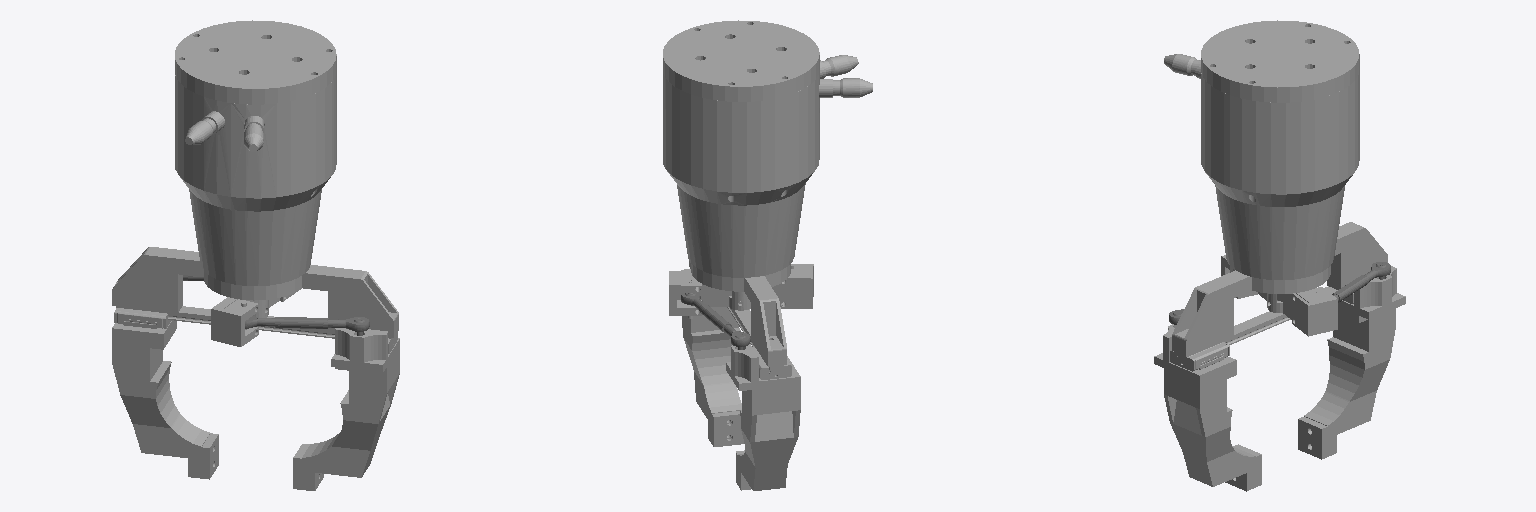
The robot description file, URDF, robot "paeallel gripper":
<?xml version="1.0" encoding="utf-8"?>
<!-- This URDF was automatically created by SolidWorks to URDF Exporter! Originally created by Stephen Brawner (brawner@gmail.com) 
     Commit Version: 1.6.0-4-g7f85cfe  Build Version: 1.6.7995.38578
     For more information, please see http://wiki.ros.org/sw_urdf_exporter -->
<robot
  name="paeallel gripper">
  <link
    name="base_link">
    <inertial>
      <origin
        xyz="-0.000443252122602931 -0.000442763662401773 -0.0789823429237976"
        rpy="0 0 0" />
      <mass
        value="0.449990387701698" />
      <inertia
        ixx="0.000611599768651393"
        ixy="0.000109863285594623"
        ixz="-1.94162169945949E-06"
        iyy="0.000611597595039472"
        iyz="-1.94141723807738E-06"
        izz="0.000708132649475118" />
    </inertial>
    <visual>
      <origin
        xyz="0 0 0"
        rpy="0 0 0" />
      <geometry>
        <mesh
          filename="package://paeallel gripper/meshes/base_link.STL" />
      </geometry>
      <material
        name="">
        <color
          rgba="0.698039215686274 0.698039215686274 0.698039215686274 1" />
      </material>
    </visual>
    <collision>
      <origin
        xyz="0 0 0"
        rpy="0 0 0" />
      <geometry>
        <mesh
          filename="package://paeallel gripper/meshes/base_link.STL" />
      </geometry>
    </collision>
  </link>
  <link
    name="motor">
    <inertial>
      <origin
        xyz="9.22590686407531E-05 -0.0001677011502331 -0.0090821453339556"
        rpy="0 0 0" />
      <mass
        value="0.128244907778305" />
      <inertia
        ixx="1.4145663490098E-05"
        ixy="-1.07192889077197E-05"
        ixz="3.80937341211656E-10"
        iyy="2.75049357553638E-05"
        iyz="-6.92422845600556E-10"
        izz="3.19913265885044E-05" />
    </inertial>
    <visual>
      <origin
        xyz="0 0 0"
        rpy="0 0 0" />
      <geometry>
        <mesh
          filename="package://paeallel gripper/meshes/motor.STL" />
      </geometry>
      <material
        name="">
        <color
          rgba="0.698039215686274 0.698039215686274 0.698039215686274 1" />
      </material>
    </visual>
    <collision>
      <origin
        xyz="0 0 0"
        rpy="0 0 0" />
      <geometry>
        <mesh
          filename="package://paeallel gripper/meshes/motor.STL" />
      </geometry>
    </collision>
  </link>
  <joint
    name="motor"
    type="revolute">
    <origin
      xyz="0 0 -0.146000000000002"
      rpy="0 0 0" />
    <parent
      link="base_link" />
    <child
      link="motor" />
    <axis
      xyz="0 0 -1" />
    <limit
      lower="0"
      upper="0.9601618283"
      effort="0"
      velocity="0" />
  </joint>
  <link
    name="link1">
    <inertial>
      <origin
        xyz="-0.0298586239548906 0.0197261040508656 -0.0036142199354076"
        rpy="0 0 0" />
      <mass
        value="0.00248577770480401" />
      <inertia
        ixx="5.61968001929898E-08"
        ixy="4.67872105961216E-08"
        ixz="9.55423899712618E-16"
        iyy="9.61069133377032E-08"
        iyz="-6.13446905808832E-16"
        izz="1.26527926465619E-07" />
    </inertial>
    <visual>
      <origin
        xyz="0 0 0"
        rpy="0 0 0" />
      <geometry>
        <mesh
          filename="package://paeallel gripper/meshes/link1.STL" />
      </geometry>
      <material
        name="">
        <color
          rgba="0.501960784313725 0.501960784313725 0.501960784313725 1" />
      </material>
    </visual>
    <collision>
      <origin
        xyz="0 0 0"
        rpy="0 0 0" />
      <geometry>
        <mesh
          filename="package://paeallel gripper/meshes/link1.STL" />
      </geometry>
    </collision>
  </link>
  <joint
    name="link1"
    type="revolute">
    <origin
      xyz="0.021614 0.022952 -0.0075"
      rpy="0 0 0" />
    <parent
      link="motor" />
    <child
      link="link1" />
    <axis
      xyz="0 0 -1" />
    <limit
      lower="-3.14"
      upper="3.14"
      effort="0"
      velocity="0" />
    <mimic
      joint="motor"
      multiplier="-0.88"
      offset="0" />
  </joint>
  <link
    name="link2">
    <inertial>
      <origin
        xyz="0.0299689669230293 -0.0195580578819348 -0.00361422009657247"
        rpy="0 0 0" />
      <mass
        value="0.00248577769066908" />
      <inertia
        ixx="5.5672399023117E-08"
        ixy="4.65600605113971E-08"
        ixz="1.29551524737056E-20"
        iyy="9.66313146049496E-08"
        iyz="-6.81212621467356E-21"
        izz="1.26527926643365E-07" />
    </inertial>
    <visual>
      <origin
        xyz="0 0 0"
        rpy="0 0 0" />
      <geometry>
        <mesh
          filename="package://paeallel gripper/meshes/link2.STL" />
      </geometry>
      <material
        name="">
        <color
          rgba="0.501960784313725 0.501960784313725 0.501960784313725 1" />
      </material>
    </visual>
    <collision>
      <origin
        xyz="0 0 0"
        rpy="0 0 0" />
      <geometry>
        <mesh
          filename="package://paeallel gripper/meshes/link2.STL" />
      </geometry>
    </collision>
  </link>
  <joint
    name="link2"
    type="revolute">
    <origin
      xyz="-0.021316 -0.023492 -0.007"
      rpy="0 0 0" />
    <parent
      link="motor" />
    <child
      link="link2" />
    <axis
      xyz="0 0 -1" />
    <limit
      lower="-3.14"
      upper="3.14"
      effort="0"
      velocity="0" />
    <mimic
      joint="motor"
      multiplier="-0.88"
      offset="0" />
  </joint>
  <link
    name="p1">
    <inertial>
      <origin
        xyz="-0.0251576655127445 0.0270743349939394 0.0471197404654572"
        rpy="0 0 0" />
      <mass
        value="0.0639216206656708" />
      <inertia
        ixx="3.46401729832417E-05"
        ixy="1.73539659004351E-06"
        ixz="6.38448685760896E-06"
        iyy="3.46401741707637E-05"
        iyz="-6.74759673488215E-06"
        izz="1.17759934604075E-05" />
    </inertial>
    <visual>
      <origin
        xyz="0 0 0"
        rpy="0 0 0" />
      <geometry>
        <mesh
          filename="package://paeallel gripper/meshes/p1.STL" />
      </geometry>
      <material
        name="">
        <color
          rgba="0.698039215686274 0.698039215686274 0.698039215686274 1" />
      </material>
    </visual>
    <collision>
      <origin
        xyz="0 0 0"
        rpy="0 0 0" />
      <geometry>
        <mesh
          filename="package://paeallel gripper/meshes/p1.STL" />
      </geometry>
    </collision>
  </link>
  <joint
    name="p1"
    type="prismatic">
    <origin
      xyz="-0.017452 0.017593 -0.25991"
      rpy="0 0 0" />
    <parent
      link="base_link" />
    <child
      link="p1" />
    <axis
      xyz="-0.70711 0.70711 0" />
    <limit
      lower="-0.02554"
      upper="0"
      effort="0"
      velocity="0" />
    <mimic
      joint="motor"
      multiplier="-0.0265996827277"
      offset="0" />
  </joint>
  <link
    name="p2">
    <inertial>
      <origin
        xyz="0.025157665509298 -0.0270743349973465 0.0471197404654611"
        rpy="0 0 0" />
      <mass
        value="0.0639216206656709" />
      <inertia
        ixx="3.46401729832416E-05"
        ixy="1.73539659004246E-06"
        ixz="-6.38448685708194E-06"
        iyy="3.46401741707663E-05"
        iyz="6.74759673534727E-06"
        izz="1.17759934604052E-05" />
    </inertial>
    <visual>
      <origin
        xyz="0 0 0"
        rpy="0 0 0" />
      <geometry>
        <mesh
          filename="package://paeallel gripper/meshes/p2.STL" />
      </geometry>
      <material
        name="">
        <color
          rgba="0.698039215686274 0.698039215686274 0.698039215686274 1" />
      </material>
    </visual>
    <collision>
      <origin
        xyz="0 0 0"
        rpy="0 0 0" />
      <geometry>
        <mesh
          filename="package://paeallel gripper/meshes/p2.STL" />
      </geometry>
    </collision>
  </link>
  <joint
    name="p2"
    type="prismatic">
    <origin
      xyz="0.01795 -0.017808 -0.25991"
      rpy="0 0 0" />
    <parent
      link="base_link" />
    <child
      link="p2" />
    <axis
      xyz="0.70711 -0.70711 0" />
    <limit
      lower="-0.02554"
      upper="0"
      effort="0"
      velocity="0" />
    <mimic
      joint="motor"
      multiplier="-0.0265996827277"
      offset="0" />
  </joint>
</robot>

--- Facts derived from the render (not from the file) ---
The picture shows the robot from 3 angles, left to right: view 1: azimuth 30°, elevation 25°; view 2: azimuth 150°, elevation 25°; view 3: azimuth 270°, elevation 25°; orthographic projection.
Robot: paeallel gripper — 6 links, 5 joints (3 revolute, 2 prismatic); root link base_link; default pose: all joints at 0.
Visible links, largest first — view 1: base_link, p1, p2, motor, link2; view 2: base_link, p1, p2, motor, link1; view 3: base_link, p1, p2, motor, link1.
Link boxes in pixels (x1,y1,x2,y2): base_link: [112, 20, 398, 344]; p1: [112, 308, 218, 479]; p2: [293, 328, 399, 490]; motor: [211, 289, 300, 346]; link2: [245, 316, 369, 335]; base_link: [663, 20, 872, 373]; p1: [726, 344, 800, 490]; p2: [681, 261, 743, 446]; motor: [669, 264, 813, 318]; link1: [681, 293, 750, 349]; base_link: [1164, 20, 1387, 362]; p1: [1298, 266, 1405, 459]; p2: [1154, 324, 1261, 491]; motor: [1221, 255, 1337, 336]; link1: [1332, 262, 1390, 302].
Size in the robot's own frame: 0.1382 by 0.1489 by 0.2699 metres.
Meshes: 6 distinct files referenced, 6 mesh visuals loaded (6 binary STL).
